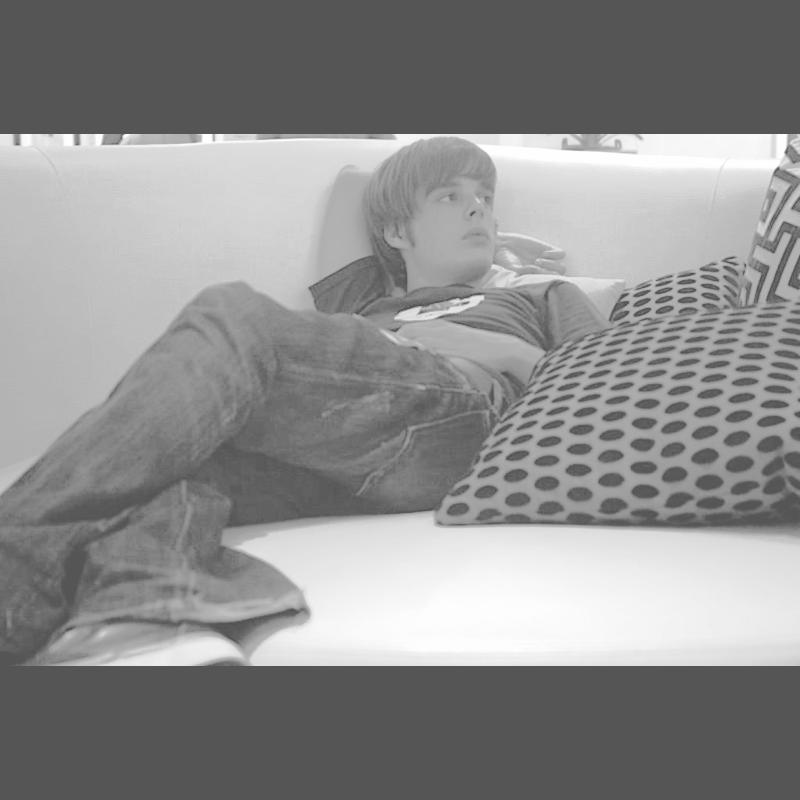pillow: (438, 302, 794, 520), (735, 134, 799, 318), (463, 258, 619, 328), (606, 260, 748, 326)
